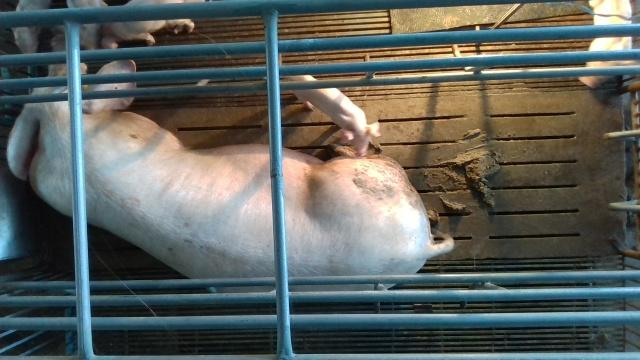piglet: (292, 75, 382, 155), (577, 0, 637, 91), (100, 0, 206, 48), (10, 0, 52, 52)
sow-sit: (5, 33, 455, 292)
